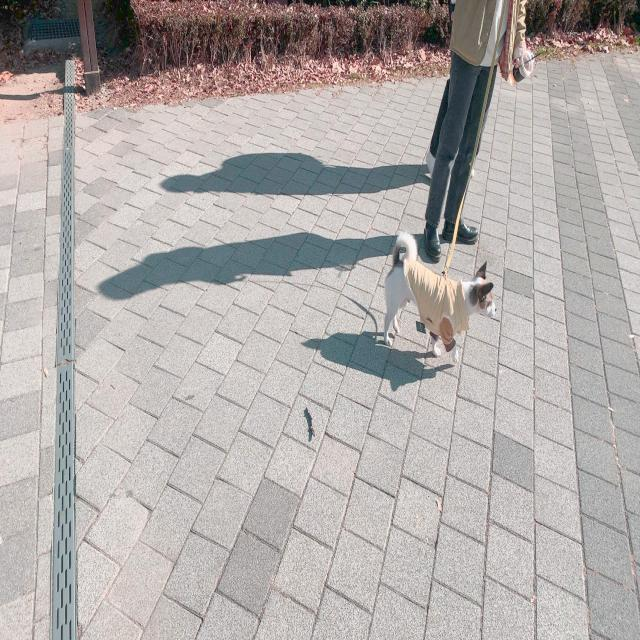Leashed_Dog: (384, 88, 514, 365)
